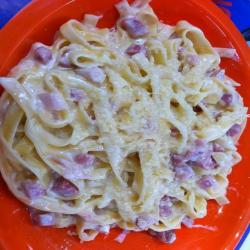carbonara: (3, 14, 243, 242)
